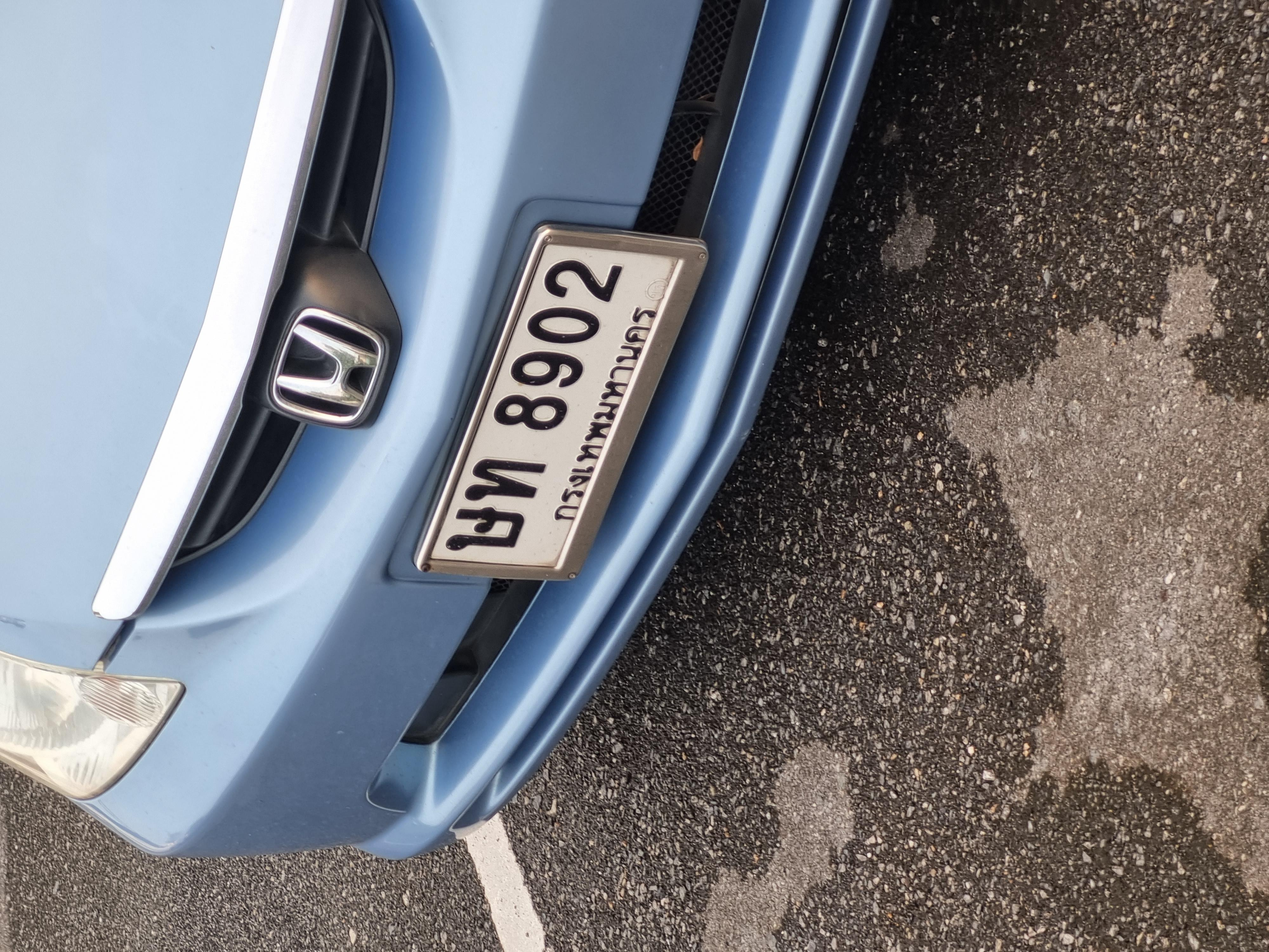license-plate: (498, 307, 962, 536)
